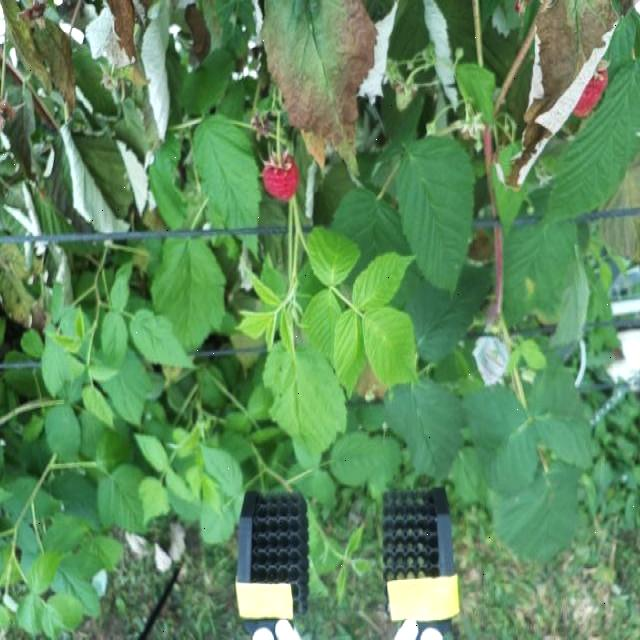Riped berries: (568, 57, 610, 123), (258, 149, 300, 204)
